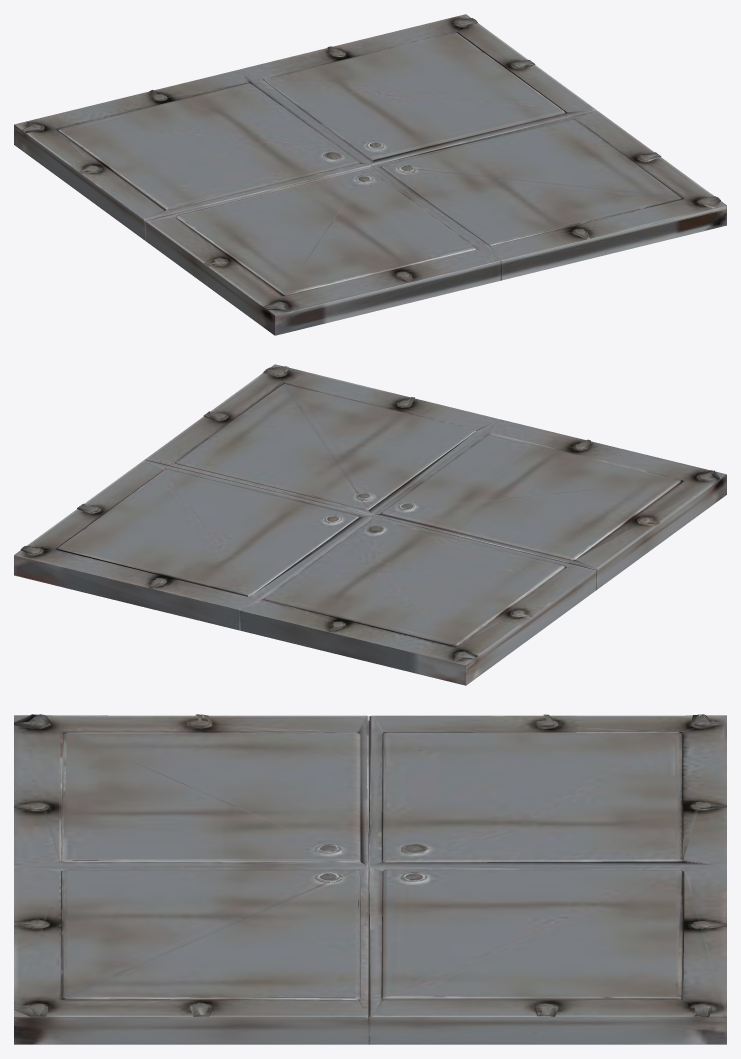
Rendered from floor-plate.glb.
3 views of the same model, one above another, from view 1: azimuth 30°, elevation 25°; view 2: azimuth 150°, elevation 25°; view 3: azimuth 270°, elevation 25° (orthographic). The views are drawn at different scales.
Size of the model in its own units: 2 by 0.1 by 2.
Materials: 1 (1 with a texture image).
